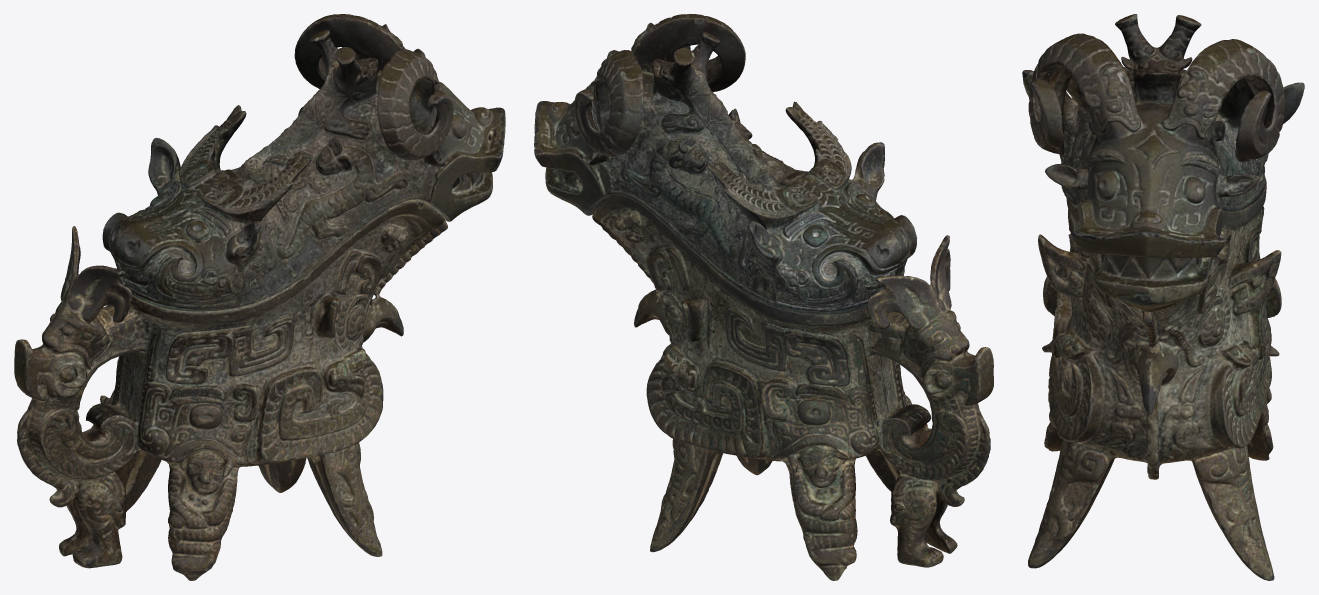
File: ewer.gltf
3 views of the same model, side by side, from view 1: azimuth 30°, elevation 25°; view 2: azimuth 150°, elevation 25°; view 3: azimuth 270°, elevation 25° (orthographic). The views are drawn at different scales.
Visible parts, largest first — view 1: f1961_33-part_02-x_pol-ort_texture-150k-unwrapped, f1961_33-part_01-laser-ortery_texture-150k-unwrapped; view 2: f1961_33-part_02-x_pol-ort_texture-150k-unwrapped, f1961_33-part_01-laser-ortery_texture-150k-unwrapped; view 3: f1961_33-part_02-x_pol-ort_texture-150k-unwrapped, f1961_33-part_01-laser-ortery_texture-150k-unwrapped.
Part boxes in pixels (x1=…): f1961_33-part_02-x_pol-ort_texture-150k-unwrapped: x1=14, y1=199, x2=447, y2=580; f1961_33-part_01-laser-ortery_texture-150k-unwrapped: x1=102, y1=14, x2=505, y2=311; f1961_33-part_02-x_pol-ort_texture-150k-unwrapped: x1=591, y1=194, x2=993, y2=580; f1961_33-part_01-laser-ortery_texture-150k-unwrapped: x1=534, y1=14, x2=917, y2=314; f1961_33-part_02-x_pol-ort_texture-150k-unwrapped: x1=1028, y1=67, x2=1281, y2=580; f1961_33-part_01-laser-ortery_texture-150k-unwrapped: x1=1022, y1=14, x2=1304, y2=311.
Size of the model in its own units: 0.325 by 0.317 by 0.143.
2 materials, 2 textured.
